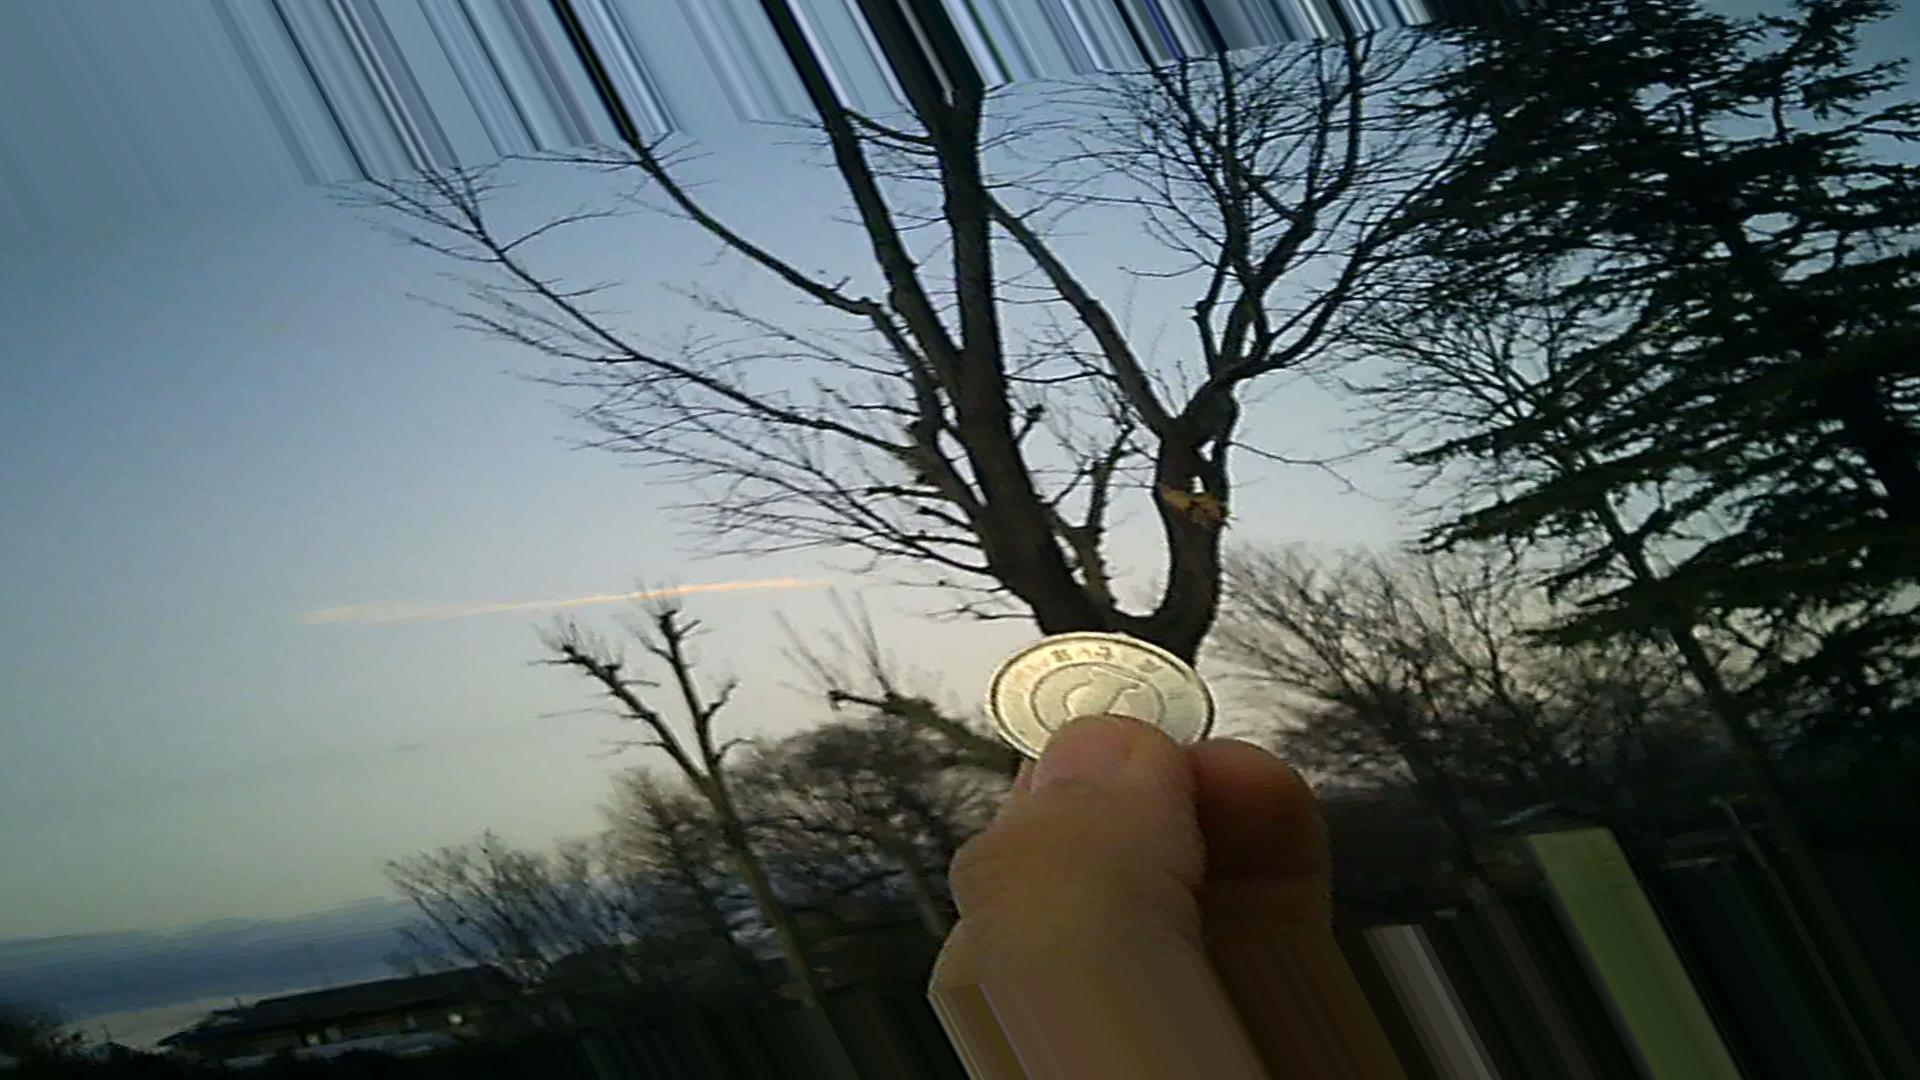1 Yen: (973, 629, 1222, 787)
